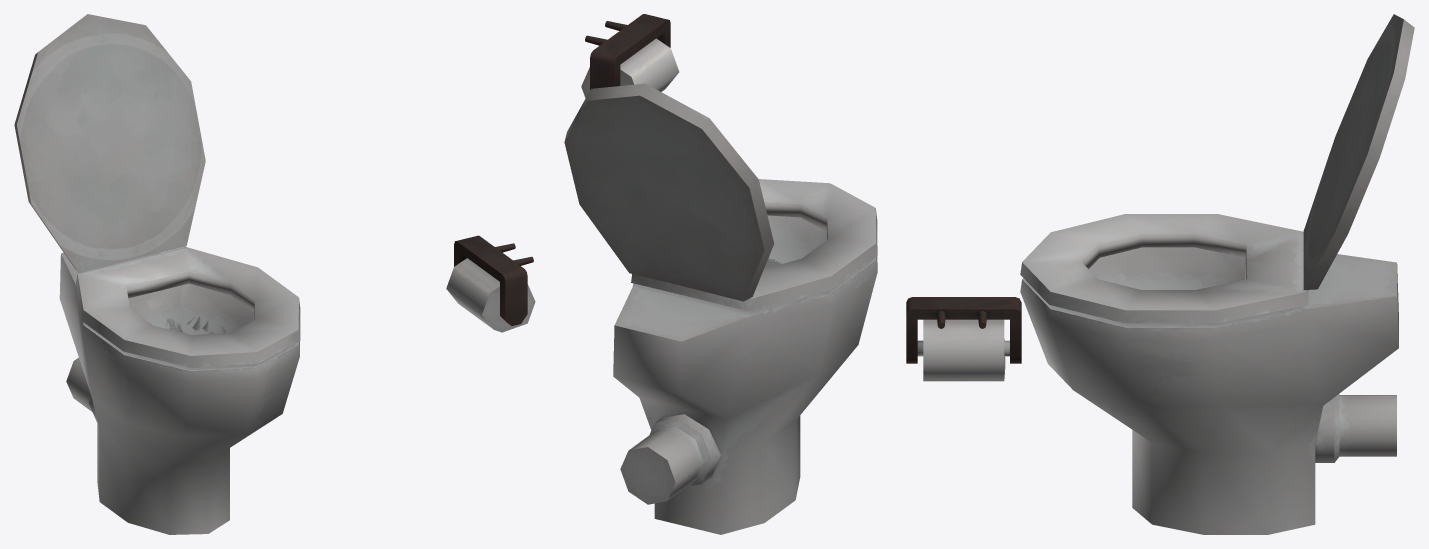
Rendered from privada.fbx.
The picture shows the model from 3 angles, left to right: view 1: azimuth 30°, elevation 25°; view 2: azimuth 150°, elevation 25°; view 3: azimuth 270°, elevation 25°; orthographic projection. The views are drawn at different scales.
Parts seen in each view (by area): view 1: Privada.015, Privada.014, PapelHigienico.033, PapelHigienico.032; view 2: Privada.015, Privada.014, PapelHigienico.033, PapelHigienico.032; view 3: Privada.015, Privada.014, PapelHigienico.032, PapelHigienico.033.
Boxes of the visible parts, box(x1,y1,x2,y2) form: Privada.015: box(59, 246, 300, 534); Privada.014: box(14, 14, 205, 272); PapelHigienico.033: box(454, 235, 533, 325); PapelHigienico.032: box(446, 258, 535, 332); Privada.015: box(613, 179, 877, 534); Privada.014: box(564, 83, 774, 301); PapelHigienico.033: box(585, 14, 670, 89); PapelHigienico.032: box(581, 38, 679, 98); Privada.015: box(1020, 214, 1398, 534); Privada.014: box(1303, 14, 1414, 289); PapelHigienico.032: box(923, 319, 1005, 381); PapelHigienico.033: box(906, 297, 1021, 363).
Bounding box in the file's own units: 106 × 134 × 126.
2 materials, 2 textured.
